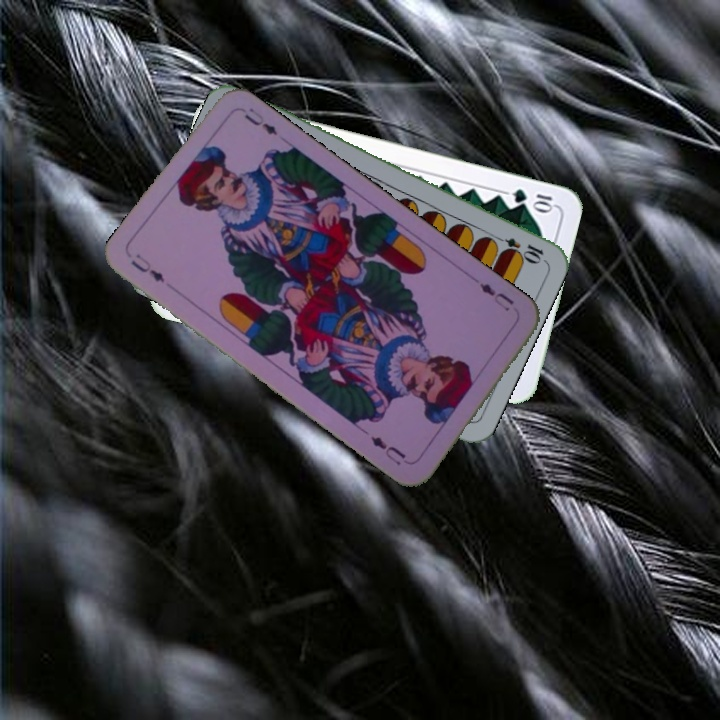E10: (488, 231, 546, 264)
EU: (126, 249, 168, 286), (475, 278, 517, 314)
G10: (509, 184, 557, 213)
